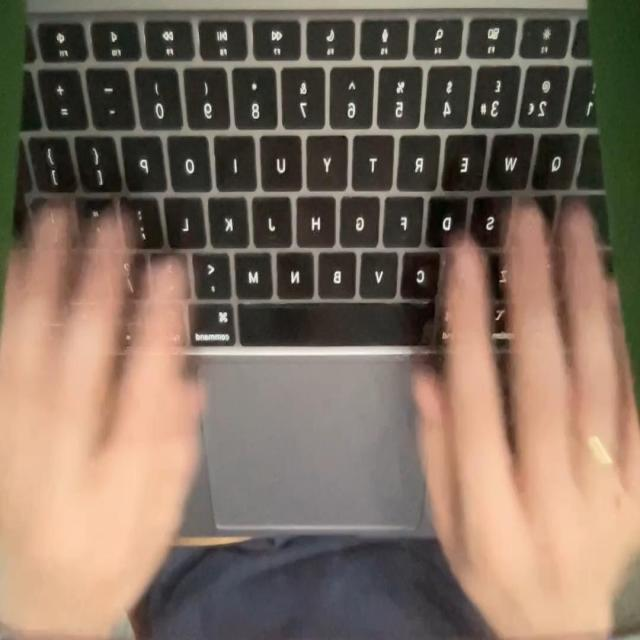keyboard-with-hands: (3, 0, 622, 543)
